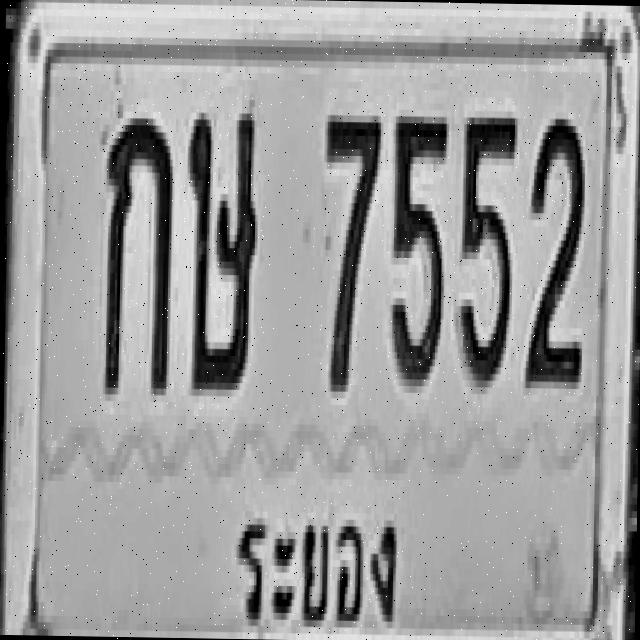10GorGai: (102, 111, 173, 395)
2: (524, 112, 584, 388)
48SorRueSi: (183, 102, 259, 394)
5: (457, 110, 517, 388), (388, 109, 446, 386)
7: (320, 108, 380, 392)
Rayong: (228, 485, 403, 640)
